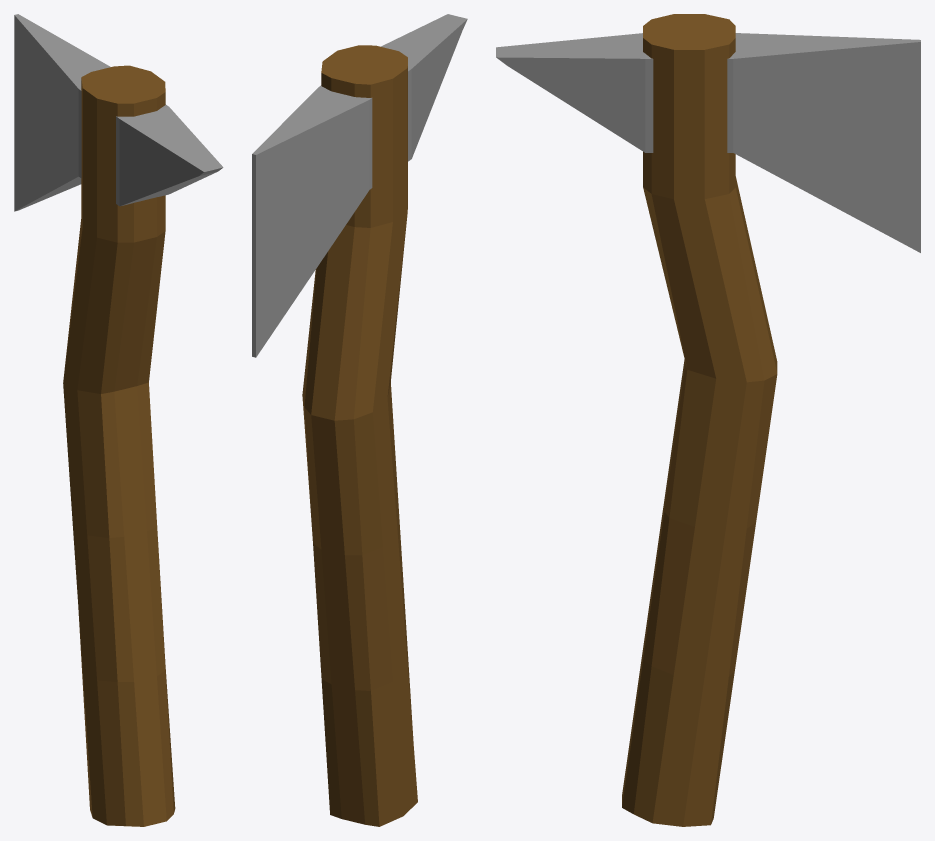
File: тапор.fbx
3 views of the same model, side by side, from view 1: azimuth 30°, elevation 25°; view 2: azimuth 150°, elevation 25°; view 3: azimuth 270°, elevation 25° (orthographic). The views are drawn at different scales.
Parts seen in each view (by area): view 1: Куб; view 2: Куб; view 3: Куб.
Boxes of the visible parts, box(x1,y1,x2,y2) form: Куб: box(14, 14, 223, 826); Куб: box(252, 14, 467, 826); Куб: box(496, 14, 920, 826).
Bounding box in the file's own units: 182 × 1850 × 912.
